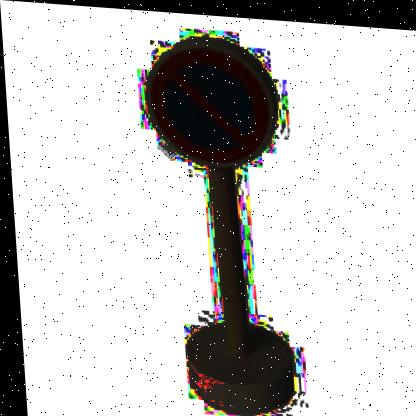No parking: (133, 27, 290, 175)
